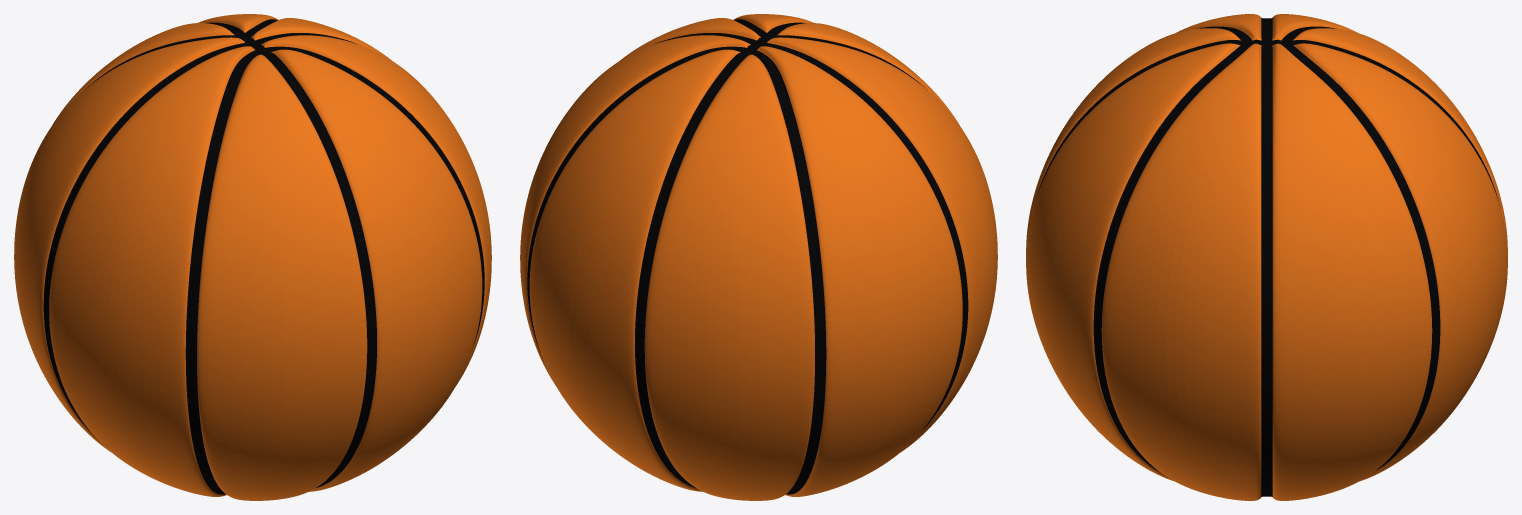
The model's file is basketball.fbx.
The picture shows the model from 3 angles, left to right: view 1: azimuth 30°, elevation 25°; view 2: azimuth 150°, elevation 25°; view 3: azimuth 270°, elevation 25°; orthographic projection.
Visible parts, largest first — view 1: Sphere; view 2: Sphere; view 3: Sphere.
Part boxes in pixels (x1,y1,x2,y2): Sphere: (14, 14, 491, 500); Sphere: (520, 14, 997, 500); Sphere: (1026, 14, 1507, 500).
Size of the model in its own units: 195 by 196 by 195.
